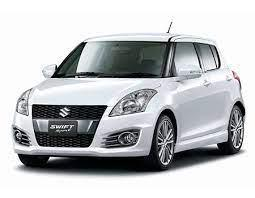Hatchback: (5, 30, 250, 172)
